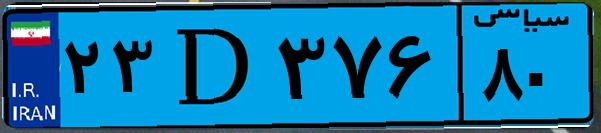0: (525, 38, 570, 115)
2: (57, 26, 110, 100)
3: (270, 28, 330, 110), (110, 28, 158, 98)
6: (385, 28, 445, 110)
7: (330, 28, 385, 110)
8: (475, 38, 525, 113)
D: (158, 12, 270, 120)
